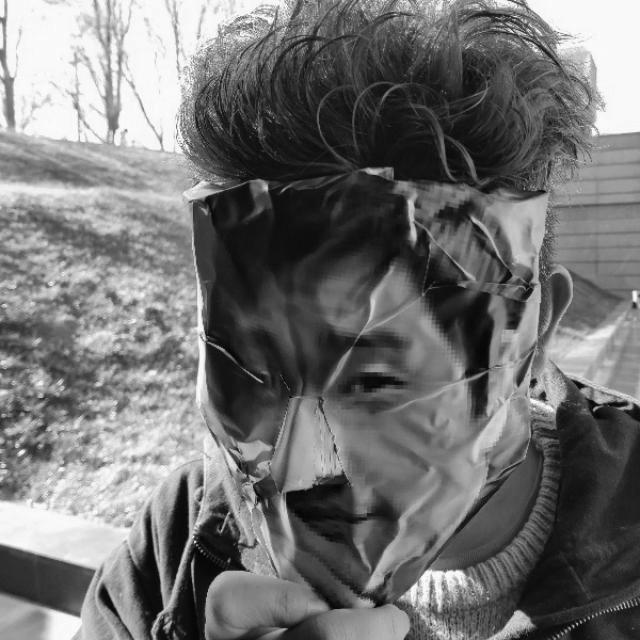fake: (174, 134, 554, 608)
